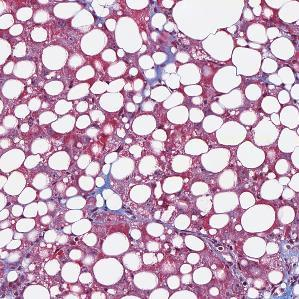fibrosis: (273, 235, 299, 299)
